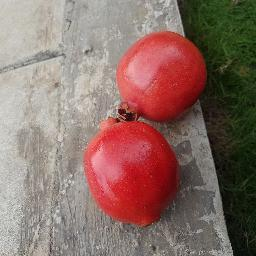Good_pomegranate: (82, 117, 180, 228), (112, 29, 220, 125)
